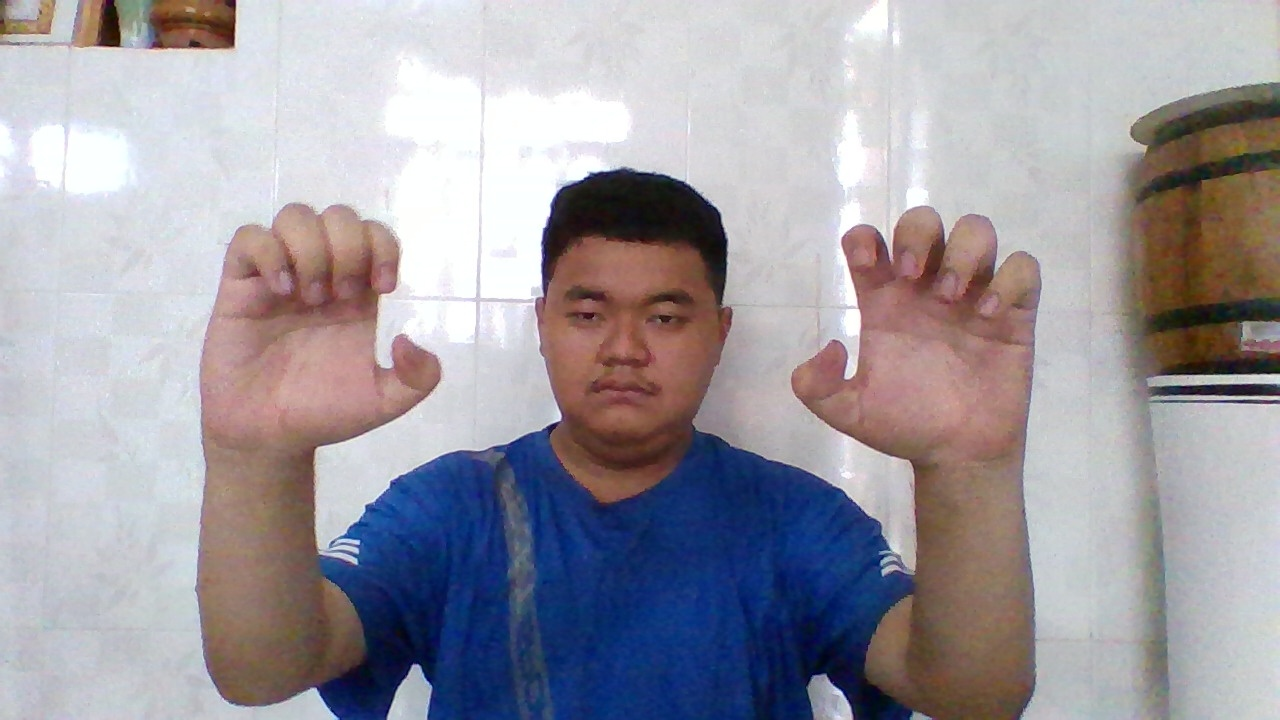E: (792, 201, 1045, 464), (223, 196, 446, 449)
